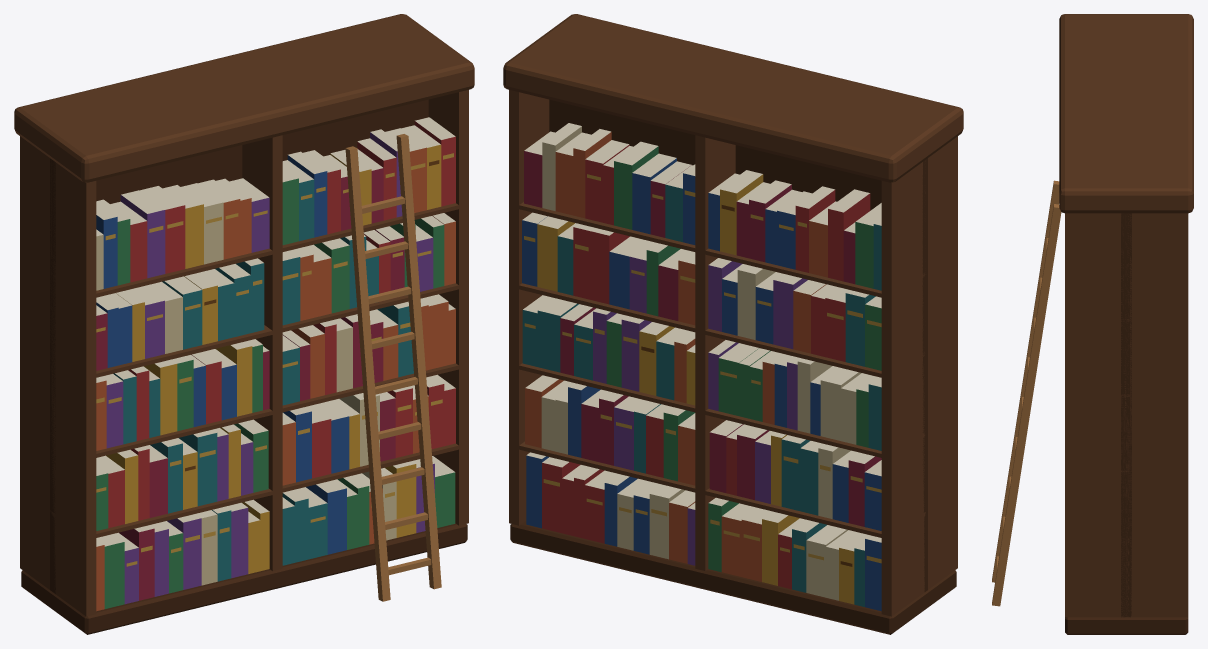
File: library-deco1.glb
3 renders of one model, left to right at view 1: azimuth 30°, elevation 25°; view 2: azimuth 150°, elevation 25°; view 3: azimuth 270°, elevation 25°, orthographic. The views are drawn at different scales.
Visible parts, largest first — view 1: library-deco1; view 2: library-deco1; view 3: library-deco1.
Part boxes in pixels (x1,y1,x2,y2): library-deco1: (14,14,474,634); library-deco1: (503,14,963,634); library-deco1: (992,14,1193,634).
Bounding box in the file's own units: 3.08 × 3.6 × 1.47.
